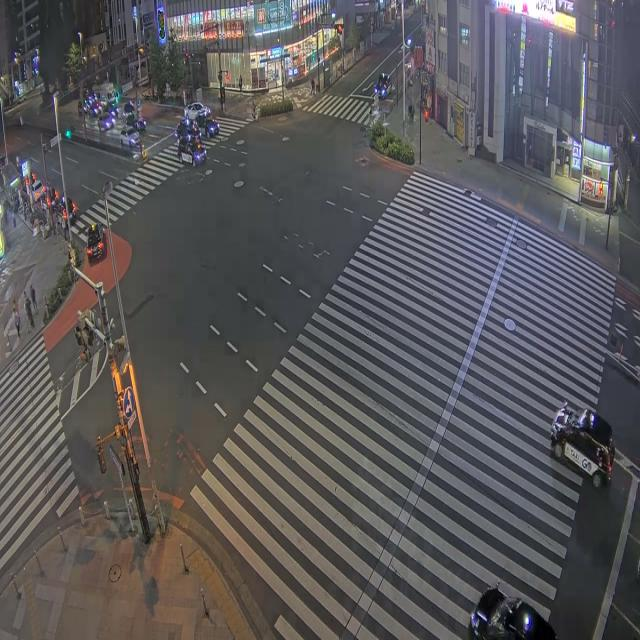car: (551, 402, 614, 487), (469, 585, 556, 639), (178, 139, 206, 166), (86, 224, 105, 262), (175, 119, 200, 141), (60, 195, 77, 224), (196, 116, 219, 137), (374, 73, 391, 99), (184, 103, 210, 119), (125, 112, 145, 131), (120, 128, 140, 147), (98, 112, 114, 131), (55, 202, 66, 226), (32, 181, 45, 201), (103, 102, 118, 118), (86, 102, 102, 117), (123, 100, 136, 116)
